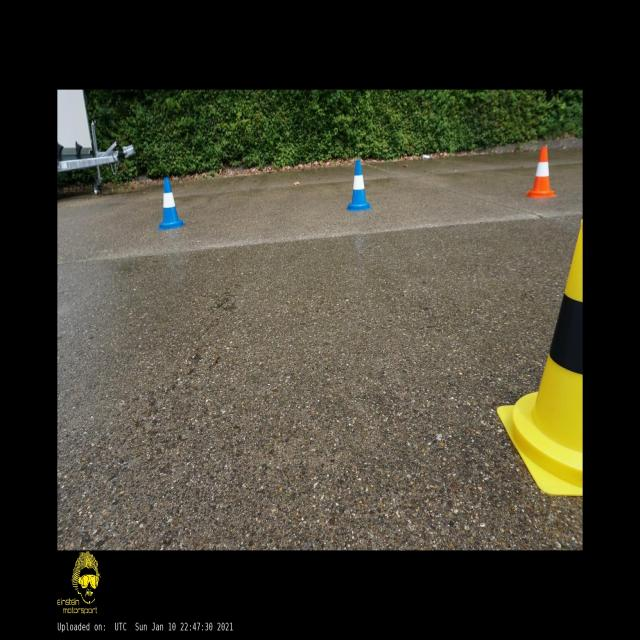blue_cone: (157, 178, 185, 230), (347, 161, 371, 211)
orange_cone: (525, 147, 557, 197)
yellow_cone: (497, 220, 582, 494)
